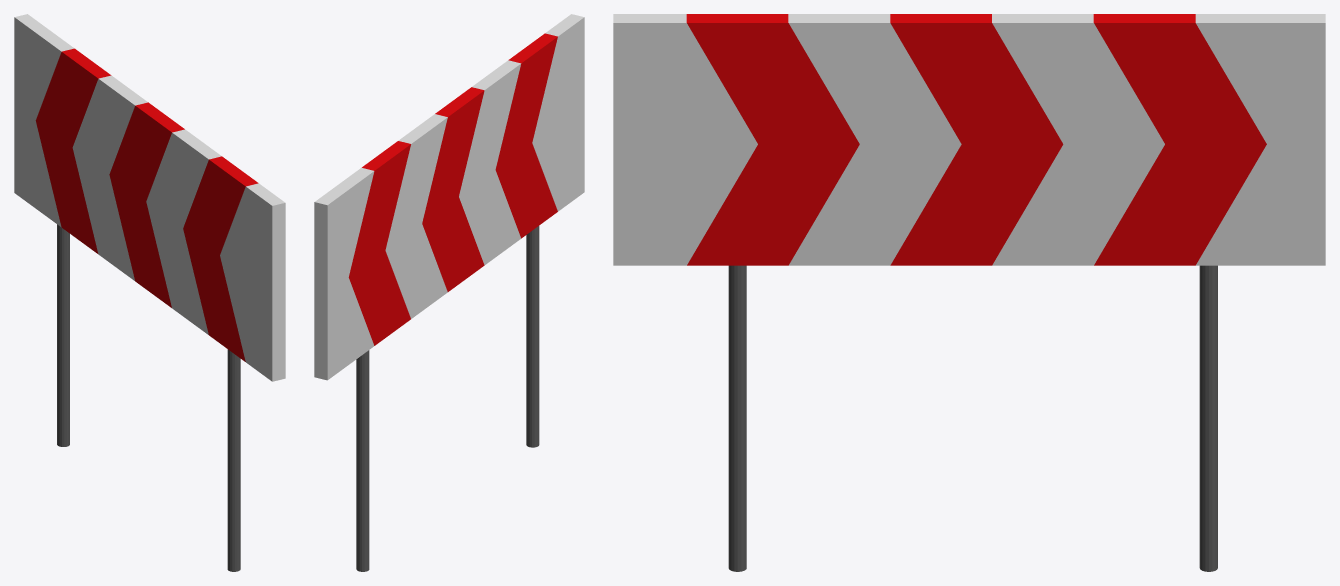
File: turn_sign.fbx
3 renders of one model, left to right at view 1: azimuth 30°, elevation 25°; view 2: azimuth 150°, elevation 25°; view 3: azimuth 270°, elevation 25°, orthographic. The views are drawn at different scales.
Visible parts, largest first — view 1: Cube, Cube.002, Cube.001; view 2: Cube, Cube.002, Cube.001; view 3: Cube, Cube.002, Cube.001.
Boxes of the visible parts, <box> form: Cube: <box>14,14,285,381</box>; Cube.002: <box>227,349,240,571</box>; Cube.001: <box>57,224,69,446</box>; Cube: <box>314,14,584,380</box>; Cube.002: <box>526,226,539,447</box>; Cube.001: <box>356,350,369,571</box>; Cube: <box>613,14,1325,265</box>; Cube.002: <box>728,265,746,571</box>; Cube.001: <box>1199,265,1217,571</box>.
Bounding box in the file's own units: 15.63 × 453 × 532.
